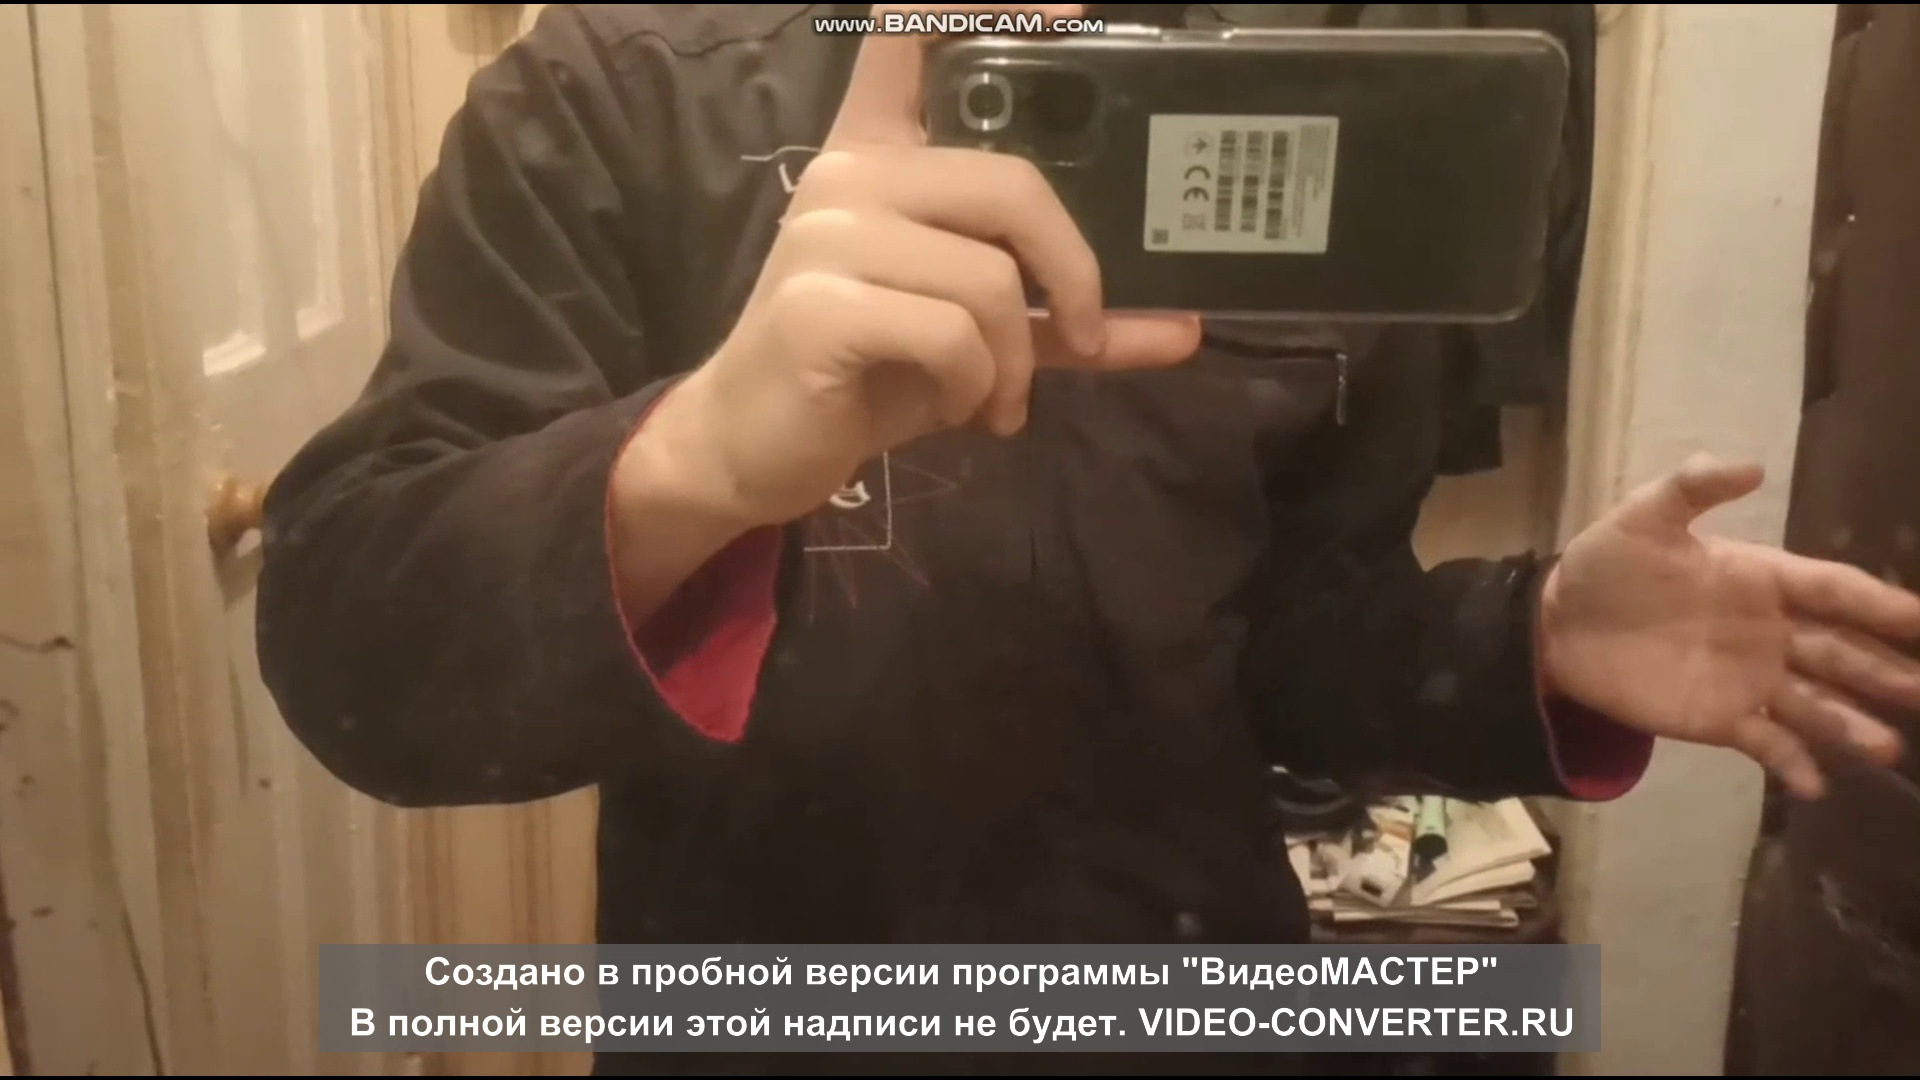Ладонь: (1559, 454, 1920, 802)
